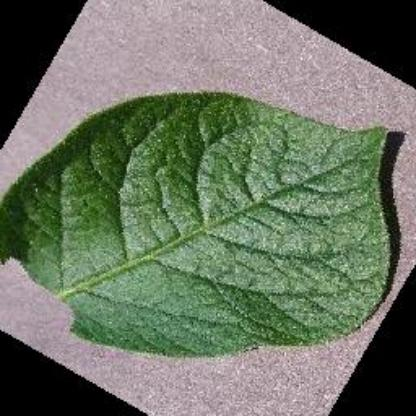Healthy-plant: (0, 84, 398, 363)
